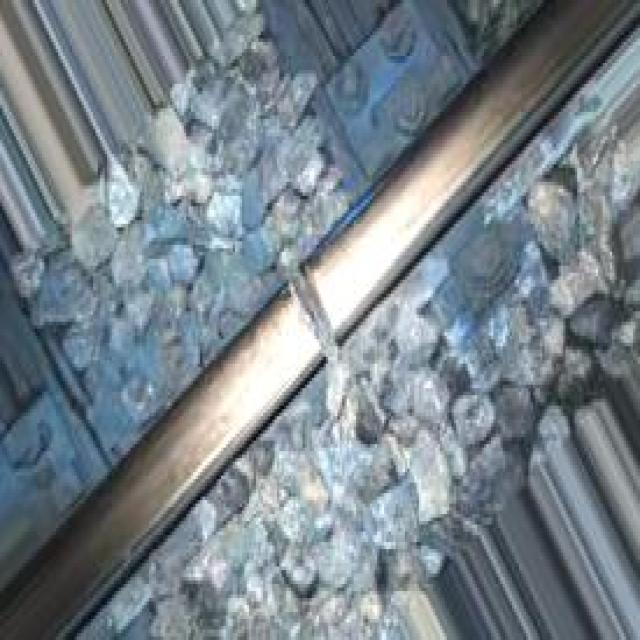crack: (264, 242, 365, 366)
